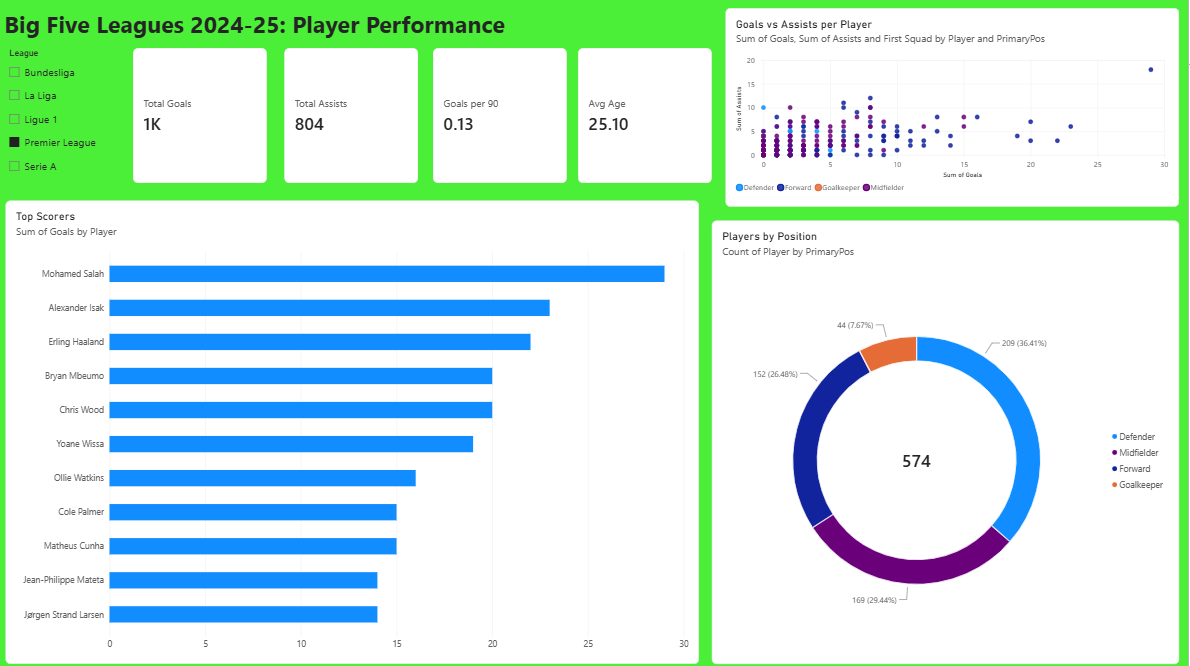

What the dashboard file says about the page in this screenshot:
{"tool":"powerbi","page":{"name":"Page 1","canvas":[1920,1080],"ordinal":0},"visuals":[{"type":"cardVisual","fields":{"Data":["players_clean.Total Goals"]},"box":[217.9,80.7,216.1,218.2],"z":0},{"type":"cardVisual","fields":{"Data":["players_clean.Total Assists"]},"box":[461.9,80.7,216.1,218.2],"z":1000},{"type":"cardVisual","fields":{"Data":["players_clean.Goals per 90"]},"box":[702,80.7,216.1,218.2],"z":2000},{"type":"cardVisual","fields":{"Data":["players_clean.Avg Age"]},"box":[936,80.7,216.1,218.2],"z":3000},{"type":"clusteredBarChart","title":"Top Scorers","fields":{"Category":["players_clean.Player"],"Y":["Sum(players_clean.Goals)"]},"box":[12.1,326.8,1119.6,748.4],"z":4000},{"type":"donutChart","title":"Players by Position","fields":{"Category":["players_clean.PrimaryPos"],"Y":["CountNonNull(players_clean.Player)"]},"box":[1151.8,359.1,754.4,716.1],"z":5000},{"type":"scatterChart","title":"Goals vs Assists per Player","fields":{"Category":["players_clean.Player"],"Series":["players_clean.PrimaryPos"],"X":["Sum(players_clean.Goals)"],"Y":["Sum(players_clean.Assists)"]},"box":[1174,16.1,732.3,320.7],"z":6000},{"type":"slicer","fields":{"Values":["players_clean.League"]},"box":[10.1,80.7,415.6,246.1],"z":7000},{"type":"textbox","box":[10.1,16.1,851.3,98.8],"z":8000}]}

Visuals, with their boxes in screenshot pixels (x1, y1, x2, y2), scaled from the page's 1920x1080 canvas onto the 1190x666 screenshot:
cardVisual - players_clean.Total Goals: {"left": 135, "top": 50, "right": 269, "bottom": 184}
cardVisual - players_clean.Total Assists: {"left": 286, "top": 50, "right": 420, "bottom": 184}
cardVisual - players_clean.Goals per 90: {"left": 435, "top": 50, "right": 569, "bottom": 184}
cardVisual - players_clean.Avg Age: {"left": 580, "top": 50, "right": 714, "bottom": 184}
"Top Scorers" clusteredBarChart: {"left": 7, "top": 202, "right": 701, "bottom": 663}
"Players by Position" donutChart: {"left": 714, "top": 221, "right": 1181, "bottom": 663}
"Goals vs Assists per Player" scatterChart: {"left": 728, "top": 10, "right": 1182, "bottom": 208}
slicer - players_clean.League: {"left": 6, "top": 50, "right": 264, "bottom": 202}
textbox: {"left": 6, "top": 10, "right": 534, "bottom": 71}
